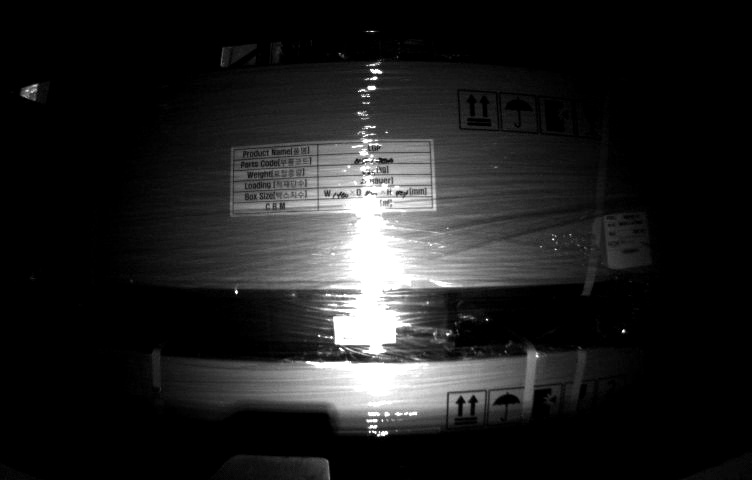True Barcode: (604, 211, 654, 272)
